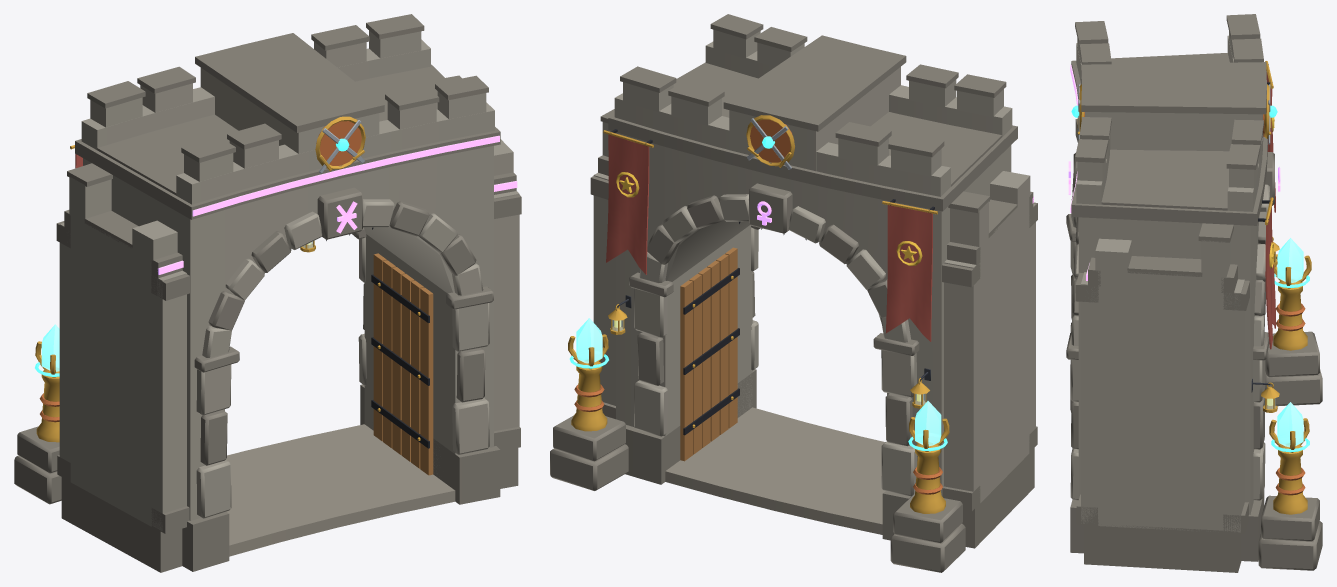
Rendered from bld_arena_gate.glb.
3 views of the same model, side by side, from view 1: azimuth 30°, elevation 25°; view 2: azimuth 150°, elevation 25°; view 3: azimuth 270°, elevation 25° (orthographic). The views are drawn at different scales.
Parts seen in each view (by area): view 1: ArenaGate; view 2: ArenaGate; view 3: ArenaGate.
Part boxes in pixels (bbox=[...]): ArenaGate: bbox=[14, 14, 521, 572]; ArenaGate: bbox=[550, 14, 1037, 572]; ArenaGate: bbox=[1066, 14, 1322, 572].
Size of what is drawn, in the model's own units: 8.9 by 8.6 by 5.04.
